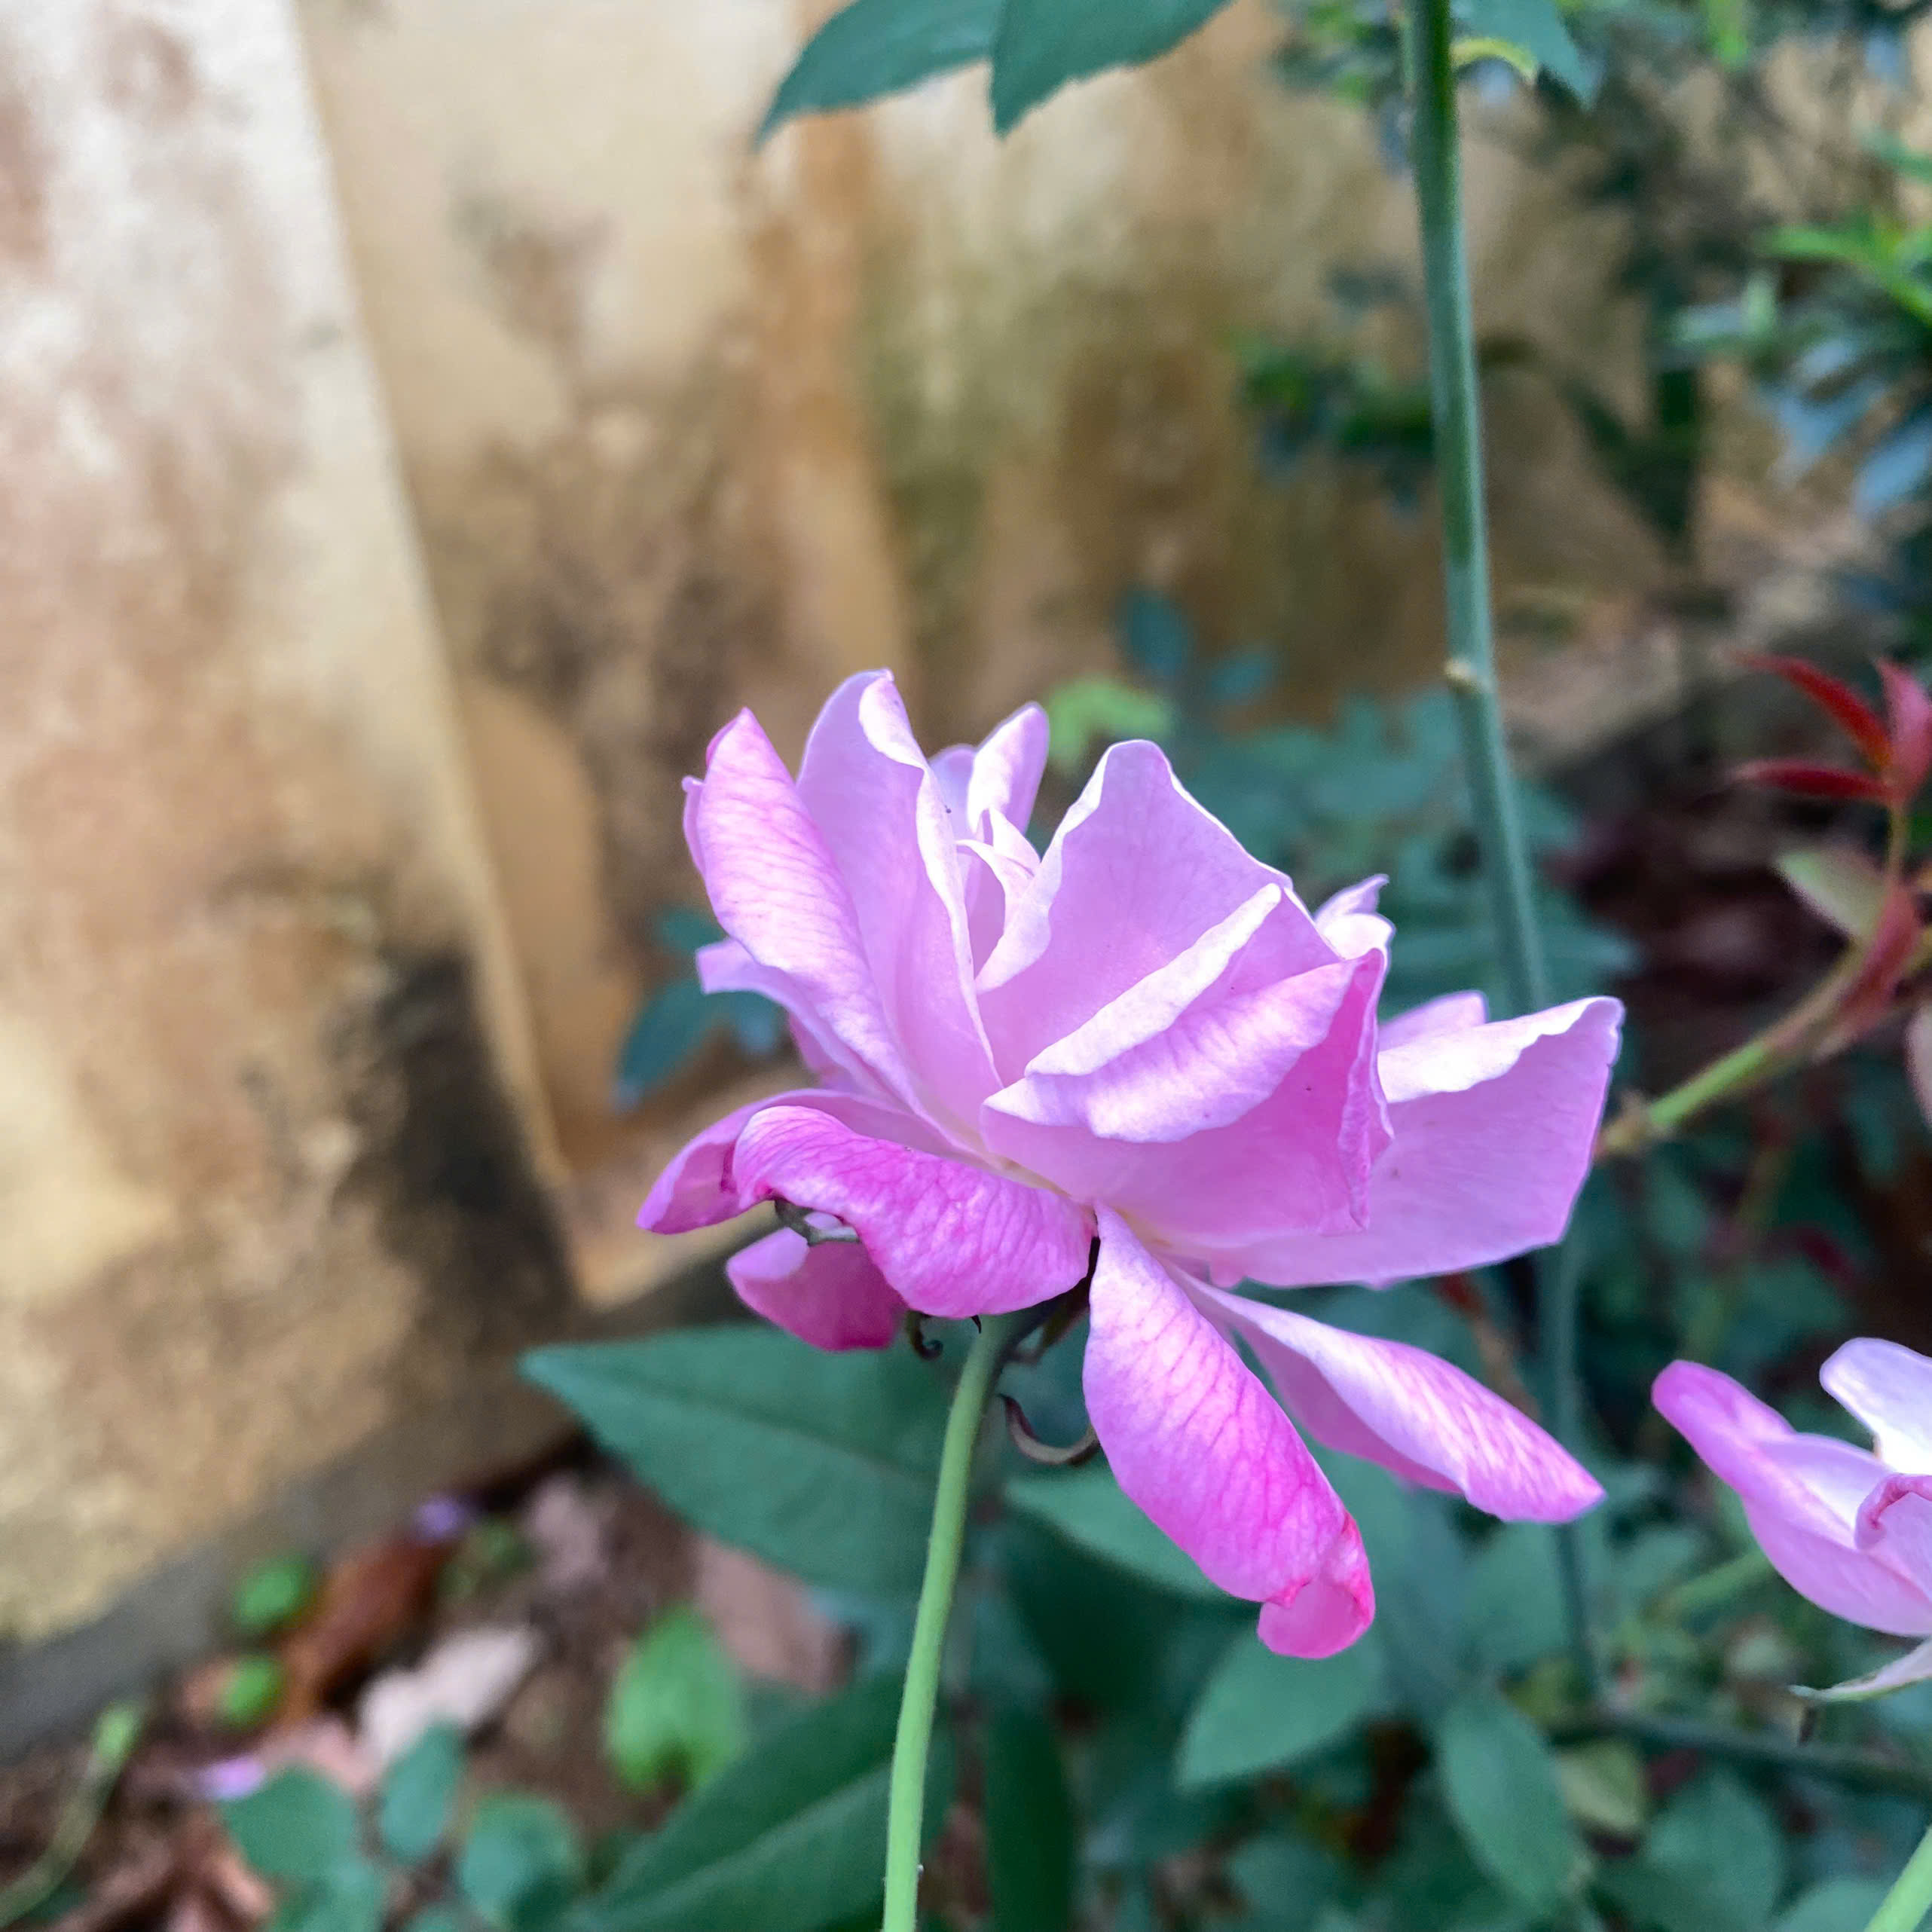hoa_hong_phan: (527, 648, 1647, 1704)
